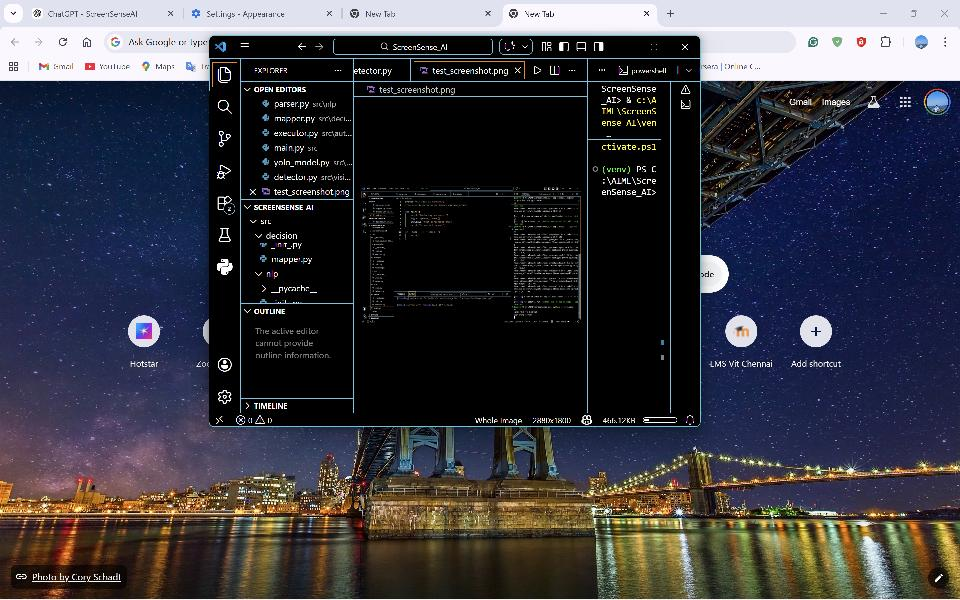close_button: (934, 2, 955, 24), (674, 38, 696, 55)
maximize_button: (903, 3, 925, 26), (643, 39, 666, 56)
minimize_button: (873, 3, 895, 25), (614, 38, 632, 58)
